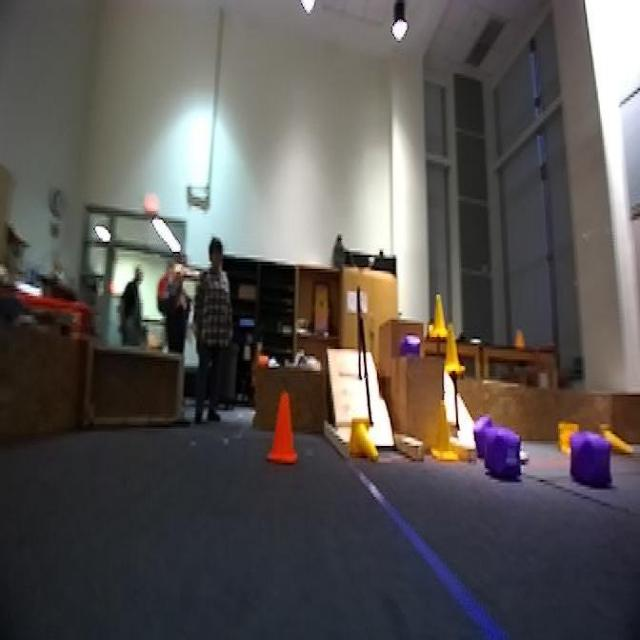frc_cone: (431, 400, 461, 461), (350, 417, 381, 463), (597, 418, 634, 452), (428, 293, 453, 340), (444, 324, 465, 374), (553, 422, 582, 455)
frc_cube: (569, 424, 617, 488), (483, 425, 518, 475), (470, 414, 495, 456), (397, 335, 420, 356)
